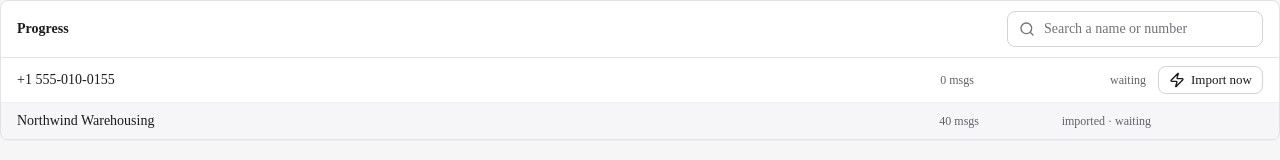
Test: History import progress › finds a chat by number and imports it now
Later steps or results of the test are not shown.
In the search field named "Search the import": point(1135, 29) [1007,11,1263,47], type "0155"
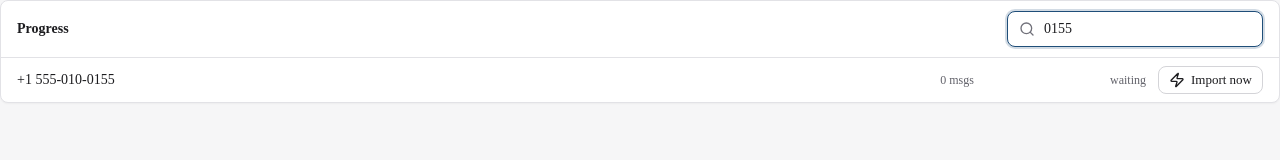
Expected: the text "Northwind Warehousing" is gone
